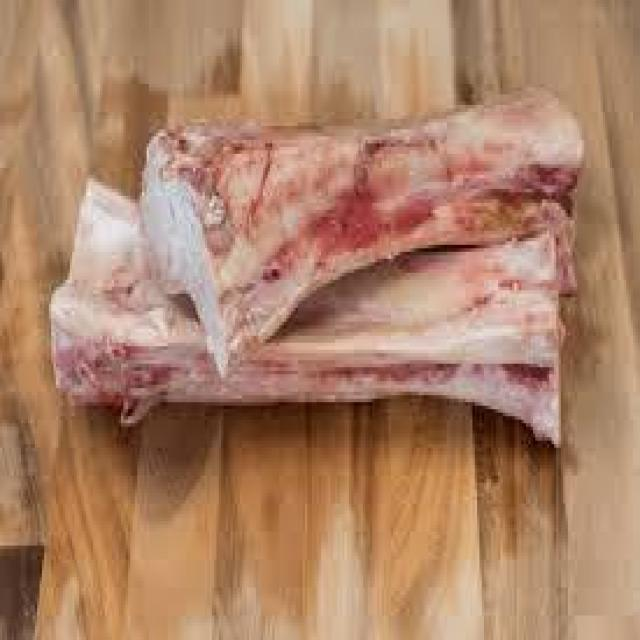Wet Waste: (48, 63, 604, 446)
